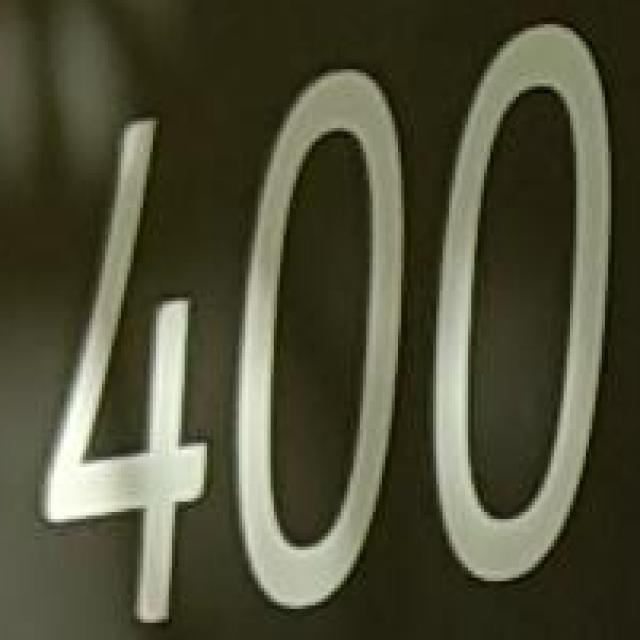character: (430, 16, 620, 594), (29, 110, 218, 631), (233, 62, 408, 616)
